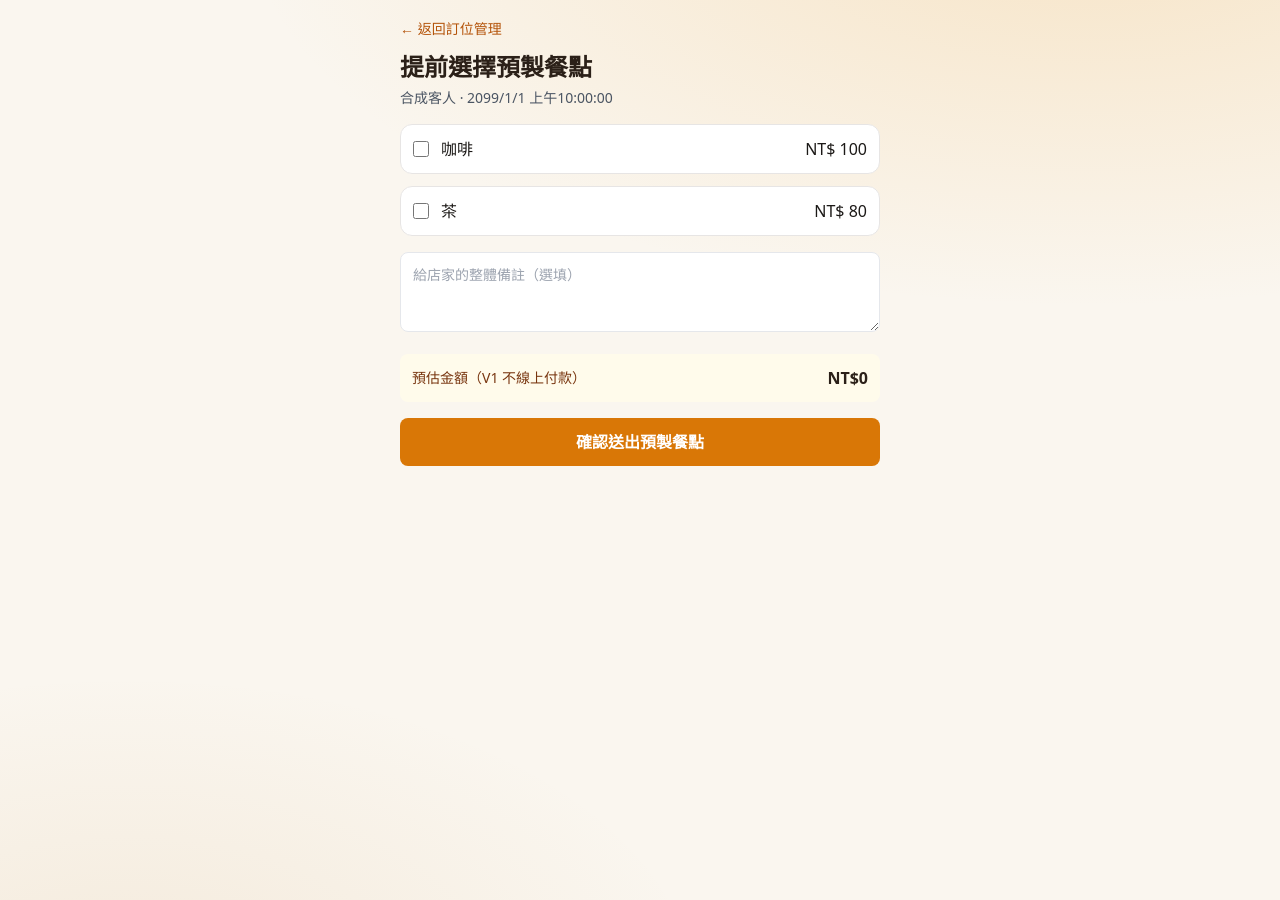
Test: guest preorder recovery › shows the server's existing items when a later choice was not applied
What coordinates should you click on to do the following:
click the checkbox named "選擇咖啡"
I would click on:
 (421, 149)
Its box is [413,141,429,157].
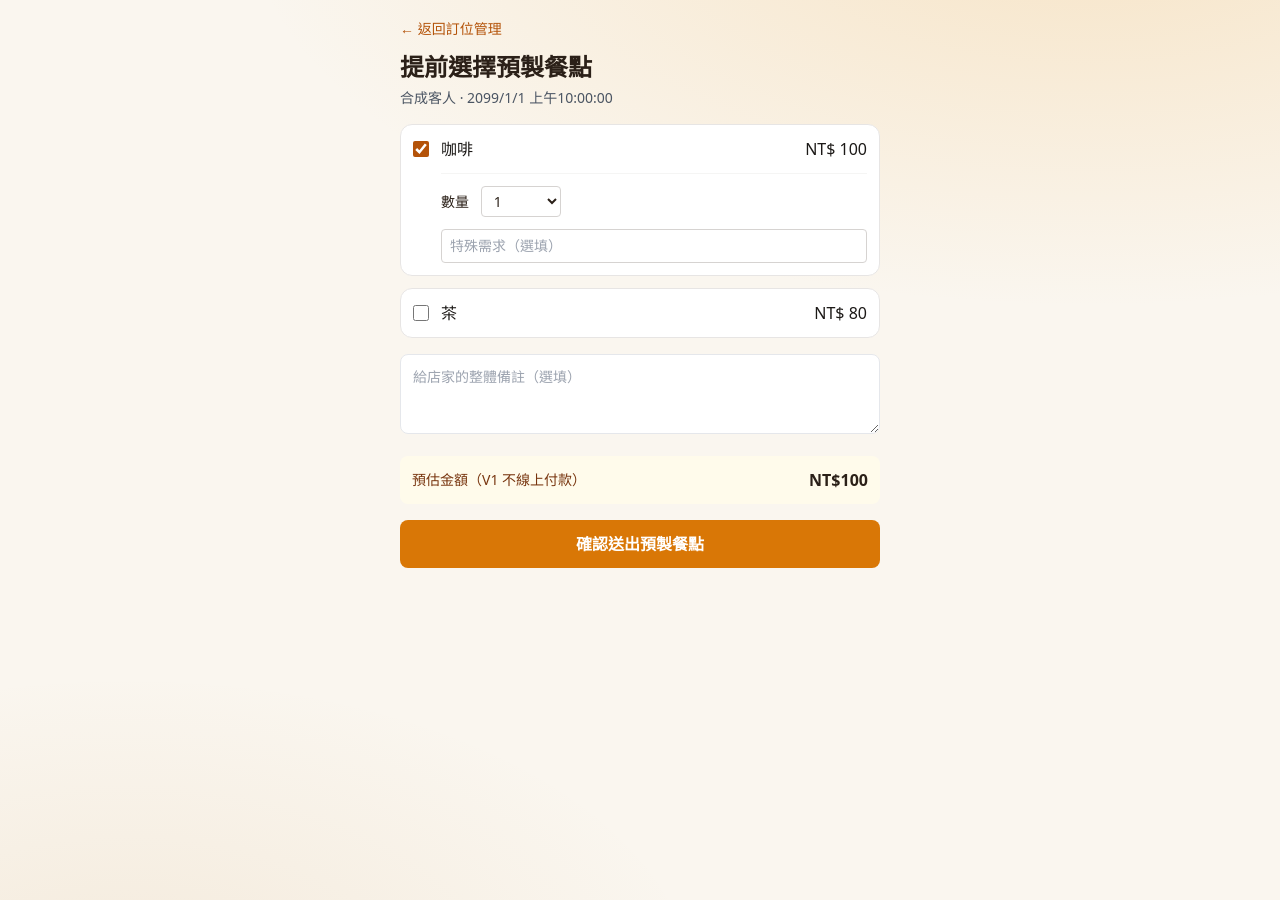
What coordinates should you click on to do the following:
click the button "確認送出預製餐點"
I would click on:
 (640, 544)
Its box is [400,520,880,568].
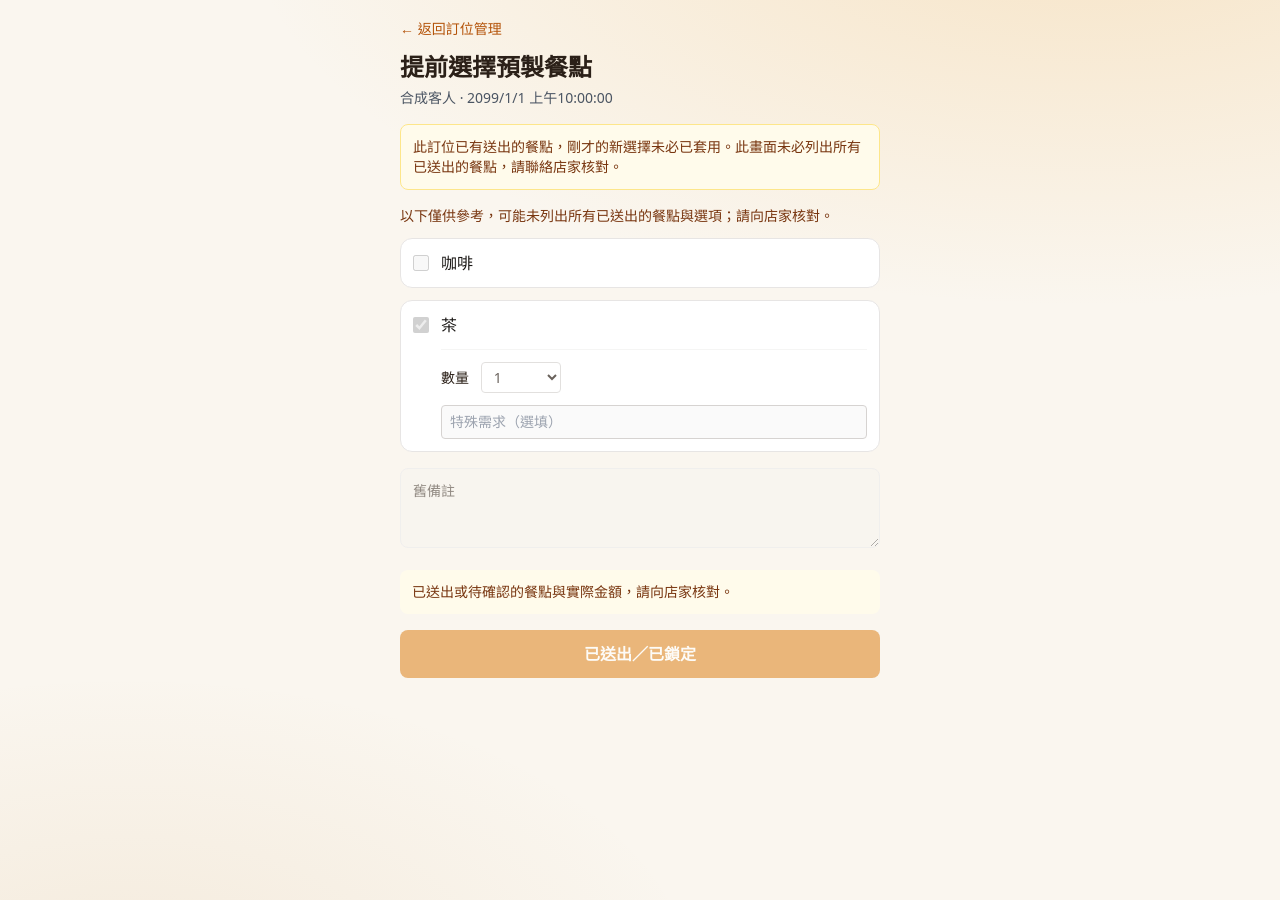
Now the checkbox named "選擇咖啡" is not checked, box [413,255,429,271]
Now the message shows "新選擇未必已套用", box [413,137,861,176]
Now the checkbox named "選擇茶" is checked, box [413,317,429,333]
